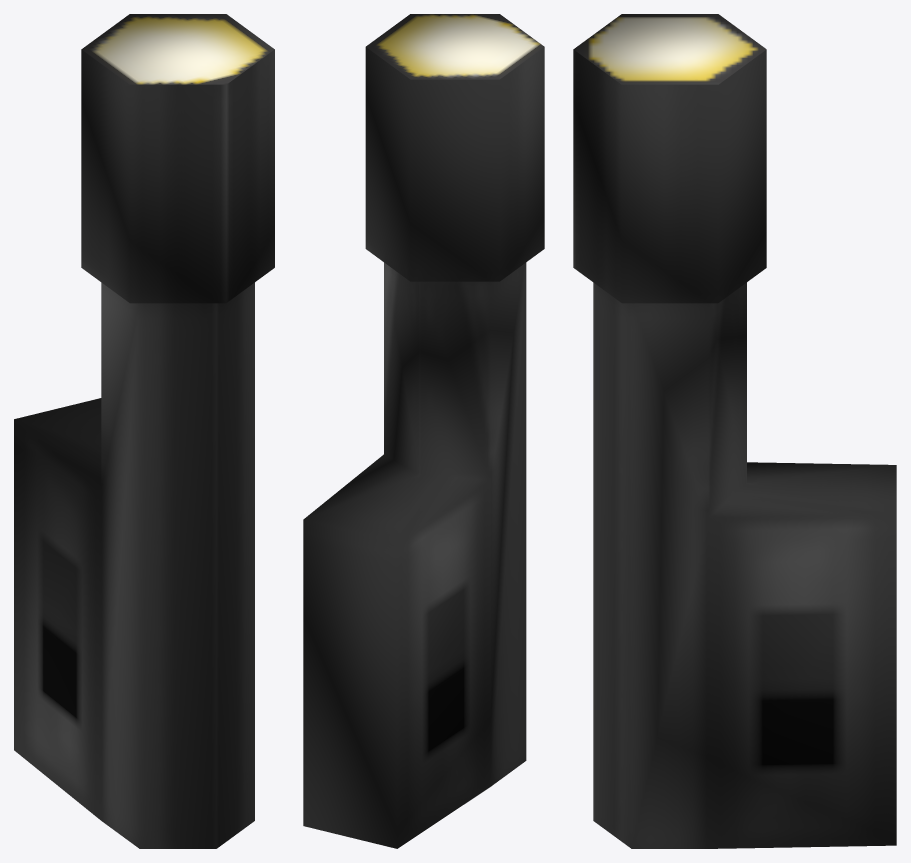
Rendered from Handgun02_Light2.fbx.
The picture shows the model from 3 angles, left to right: view 1: azimuth 30°, elevation 25°; view 2: azimuth 150°, elevation 25°; view 3: azimuth 270°, elevation 25°; orthographic projection. The views are drawn at different scales.
Visible parts, largest first — view 1: Handgun02_Light2.X_.0002; view 2: Handgun02_Light2.X_.0002; view 3: Handgun02_Light2.X_.0002.
Boxes of the visible parts, box(x1,y1,x2,y2) form: Handgun02_Light2.X_.0002: box(14, 14, 274, 848); Handgun02_Light2.X_.0002: box(303, 14, 544, 848); Handgun02_Light2.X_.0002: box(573, 14, 896, 848).
Size of the model in its own units: 2.02 by 10.24 by 3.89.
